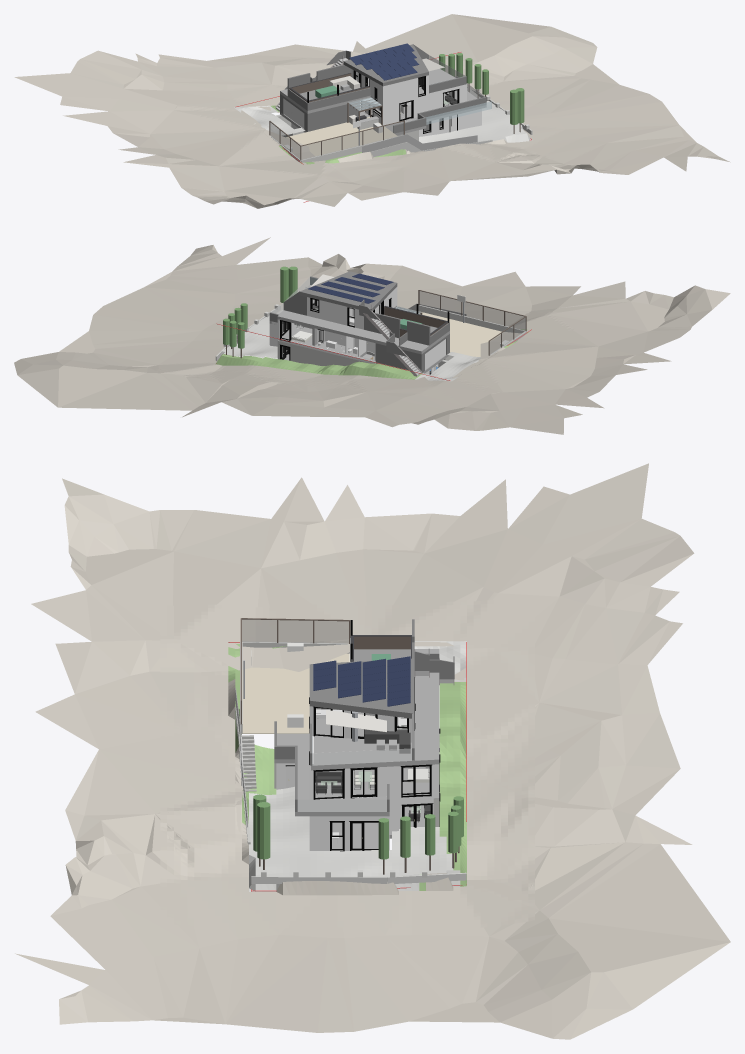
The model's file is hunstein48c.glb.
3 renders of one model, top to bottom at view 1: azimuth 30°, elevation 25°; view 2: azimuth 150°, elevation 25°; view 3: azimuth 270°, elevation 25°, orthographic. The views are drawn at different scales.
Visible parts, largest first — view 1: site|IfcBuildingElementProxy|Omgivelser – terreng/vei (kartg, site|IfcBuildingElementProxy|Omgivelser – terreng utenfor to, site|IfcBuildingElementProxy|Utomhus – betongheller 60x60 m/, floor1|IfcSlab|Ballbane – kunstdekke (på dekke over basseng), floor1|IfcBuildingElementProxy|Ballbane – ballnett #2|2ObO3s, floor1|IfcWallStandardCase|Basic Wall|3_Vhh1clf63R9voNqw5rQk, roof|IfcSlab|Basic Roof|1hYWYUFbH7kAQVxbRYIW8C|0, floor2|IfcWall|Basic Wall|0QdI2k_LHDGe3DWXuQqJFQ|0, floor1|IfcSlab|Floor|0Thnxxox56gfKzaDcDaJtj|0, basement|IfcWallStandardCase|Basic Wall|34z$WxF_L5WveowwLR6L, floor2|IfcSlab|Floor|0fPxl62AH0IhIrUzTYmErh|0, floor1|IfcWallStandardCase|Basic Wall|3rdeCEgCr5IwdkGrZbjvwB (+13 smaller); view 2: site|IfcBuildingElementProxy|Omgivelser – terreng/vei (kartg, site|IfcBuildingElementProxy|Omgivelser – terreng utenfor to, site|IfcBuildingElementProxy|Terreng – gress/beplantning|2ZW, site|IfcBuildingElementProxy|Utomhus – betongheller 60x60 m/, floor2|IfcSlab|Floor|0fPxl62AH0IhIrUzTYmErh|0, roof|IfcSlab|Basic Roof|1hYWYUFbH7kAQVxbRYIW8C|0, floor1|IfcBuildingElementProxy|Ballbane – ballnett #2|2ObO3s, floor1|IfcSlab|Ballbane – kunstdekke (på dekke over basseng), basement|IfcWall|Basic Wall|3_Vhh1clf63R9voNqw5rKb|0, floor2|IfcWallStandardCase|Basic Wall|0$3ebgWJH89BDIWqGW4EdF, floor1|IfcSlab|Floor|0Thnxxox56gfKzaDcDaJtj|0, floor1|IfcWall|Ballbane – betongblokkmur #2|351d79lKX5uPjZER (+7 smaller); view 3: site|IfcBuildingElementProxy|Omgivelser – terreng/vei (kartg, site|IfcBuildingElementProxy|Omgivelser – terreng utenfor to, site|IfcBuildingElementProxy|Utomhus – betongheller 60x60 m/, site|IfcBuildingElementProxy|Terreng – gress/beplantning|2ZW, floor2|IfcSlab|Floor|0fPxl62AH0IhIrUzTYmErh|0, floor1|IfcSlab|Ballbane – kunstdekke (på dekke over basseng), floor1|IfcSlab|Floor|0Thnxxox56gfKzaDcDaJtj|0, floor1|IfcBuildingElementProxy|Ballbane – ballnett #1|2p_pBE, roof|IfcSlab|Basic Roof|1hYWYUFbH7kAQVxbRYIW8C|0, floor1|IfcWall|Basic Wall|34z$WxF_L5WveowwLR6LGi|0, floor2|IfcWallStandardCase|Basic Wall|32P93zX_H8agQgswQOglxL, basement|IfcWallStandardCase|Basic Wall|34z$WxF_L5WveowwLR6L (+2 smaller).
Part boxes in pixels (x1=…): site|IfcBuildingElementProxy|Omgivelser – terreng/vei (kartg: x1=14, y1=14, x2=730, y2=208; site|IfcBuildingElementProxy|Omgivelser – terreng utenfor to: x1=173, y1=67, x2=595, y2=183; site|IfcBuildingElementProxy|Utomhus – betongheller 60x60 m/: x1=234, y1=88, x2=532, y2=143; floor1|IfcSlab|Ballbane – kunstdekke (på dekke over basseng): x1=286, y1=117, x2=396, y2=156; floor1|IfcBuildingElementProxy|Ballbane – ballnett #2|2ObO3s: x1=301, y1=121, x2=403, y2=159; floor1|IfcWallStandardCase|Basic Wall|3_Vhh1clf63R9voNqw5rQk: x1=306, y1=102, x2=358, y2=131; roof|IfcSlab|Basic Roof|1hYWYUFbH7kAQVxbRYIW8C|0: x1=343, y1=44, x2=428, y2=86; floor2|IfcWall|Basic Wall|0QdI2k_LHDGe3DWXuQqJFQ|0: x1=385, y1=75, x2=428, y2=106; floor1|IfcSlab|Floor|0Thnxxox56gfKzaDcDaJtj|0: x1=281, y1=90, x2=486, y2=135; basement|IfcWallStandardCase|Basic Wall|34z$WxF_L5WveowwLR6L: x1=419, y1=109, x2=479, y2=136; floor2|IfcSlab|Floor|0fPxl62AH0IhIrUzTYmErh|0: x1=280, y1=69, x2=455, y2=113; floor1|IfcWallStandardCase|Basic Wall|3rdeCEgCr5IwdkGrZbjvwB: x1=382, y1=96, x2=428, y2=125; site|IfcBuildingElementProxy|Omgivelser – terreng/vei (kartg: x1=14, y1=237, x2=730, y2=434; site|IfcBuildingElementProxy|Omgivelser – terreng utenfor to: x1=153, y1=286, x2=590, y2=400; site|IfcBuildingElementProxy|Terreng – gress/beplantning|2ZW: x1=215, y1=329, x2=528, y2=379; site|IfcBuildingElementProxy|Utomhus – betongheller 60x60 m/: x1=221, y1=310, x2=480, y2=381; floor2|IfcSlab|Floor|0fPxl62AH0IhIrUzTYmErh|0: x1=277, y1=285, x2=449, y2=354; roof|IfcSlab|Basic Roof|1hYWYUFbH7kAQVxbRYIW8C|0: x1=299, y1=271, x2=397, y2=310; floor1|IfcBuildingElementProxy|Ballbane – ballnett #2|2ObO3s: x1=419, y1=291, x2=525, y2=330; floor1|IfcSlab|Ballbane – kunstdekke (på dekke over basseng): x1=418, y1=311, x2=501, y2=356; basement|IfcWall|Basic Wall|3_Vhh1clf63R9voNqw5rKb|0: x1=277, y1=340, x2=370, y2=365; floor2|IfcWallStandardCase|Basic Wall|0$3ebgWJH89BDIWqGW4EdF: x1=309, y1=297, x2=363, y2=329; floor1|IfcSlab|Floor|0Thnxxox56gfKzaDcDaJtj|0: x1=269, y1=312, x2=449, y2=373; floor1|IfcWall|Ballbane – betongblokkmur #2|351d79lKX5uPjZER: x1=418, y1=305, x2=524, y2=333; site|IfcBuildingElementProxy|Omgivelser – terreng/vei (kartg: x1=15, y1=463, x2=730, y2=1039; site|IfcBuildingElementProxy|Omgivelser – terreng utenfor to: x1=160, y1=599, x2=534, y2=928; site|IfcBuildingElementProxy|Utomhus – betongheller 60x60 m/: x1=249, y1=641, x2=466, y2=891; site|IfcBuildingElementProxy|Terreng – gress/beplantning|2ZW: x1=228, y1=643, x2=466, y2=890; floor2|IfcSlab|Floor|0fPxl62AH0IhIrUzTYmErh|0: x1=311, y1=649, x2=439, y2=770; floor1|IfcSlab|Ballbane – kunstdekke (på dekke over basseng): x1=241, y1=653, x2=349, y2=733; floor1|IfcSlab|Floor|0Thnxxox56gfKzaDcDaJtj|0: x1=274, y1=733, x2=429, y2=816; floor1|IfcBuildingElementProxy|Ballbane – ballnett #1|2p_pBE: x1=242, y1=620, x2=348, y2=643; roof|IfcSlab|Basic Roof|1hYWYUFbH7kAQVxbRYIW8C|0: x1=309, y1=658, x2=414, y2=718; floor1|IfcWall|Basic Wall|34z$WxF_L5WveowwLR6LGi|0: x1=309, y1=764, x2=439, y2=799; floor2|IfcWallStandardCase|Basic Wall|32P93zX_H8agQgswQOglxL: x1=312, y1=748, x2=411, y2=765; basement|IfcWallStandardCase|Basic Wall|34z$WxF_L5WveowwLR6L: x1=309, y1=816, x2=389, y2=850.
Size of the model in its own units: 76.5 by 12.76 by 52.6.
